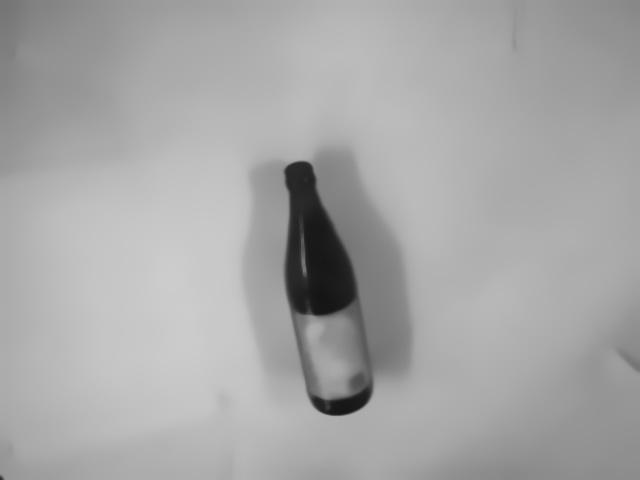Glass: (278, 157, 385, 414)
